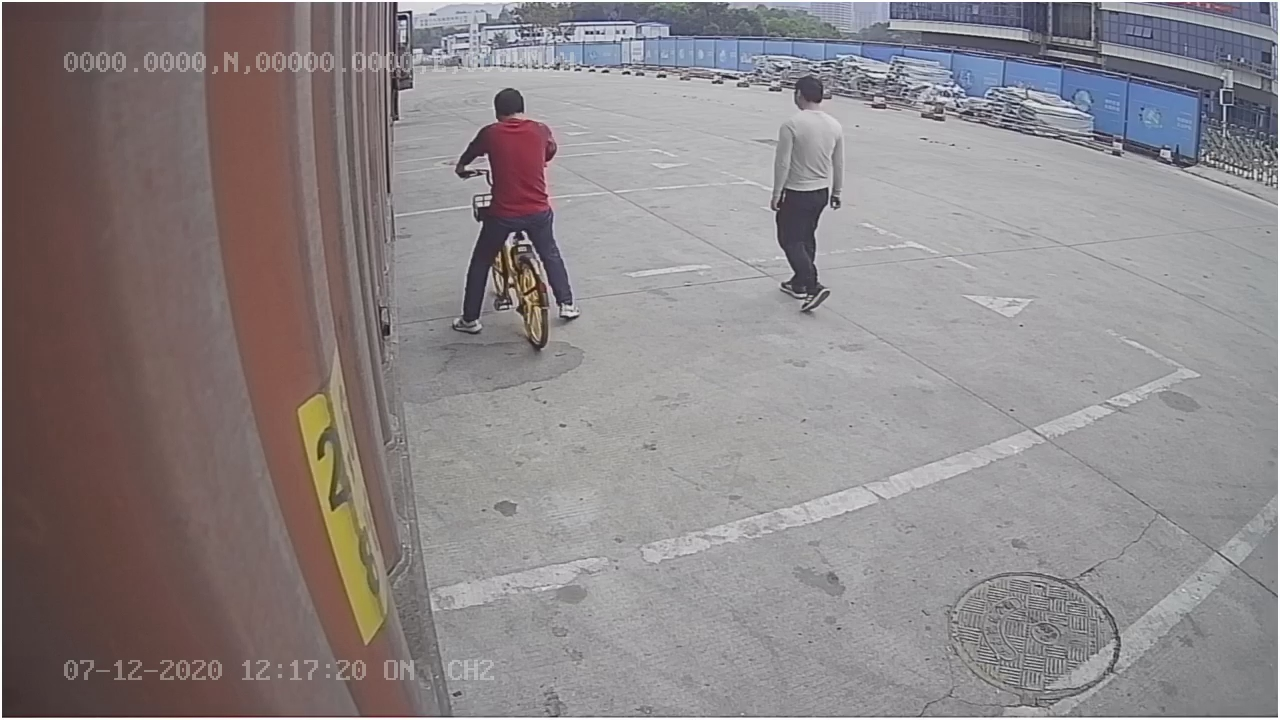person: (766, 66, 853, 311)
